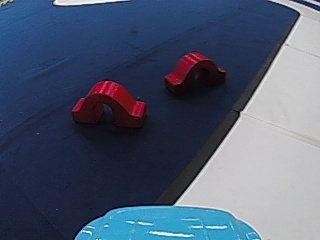bridge: (67, 75, 149, 128), (161, 48, 227, 96)
